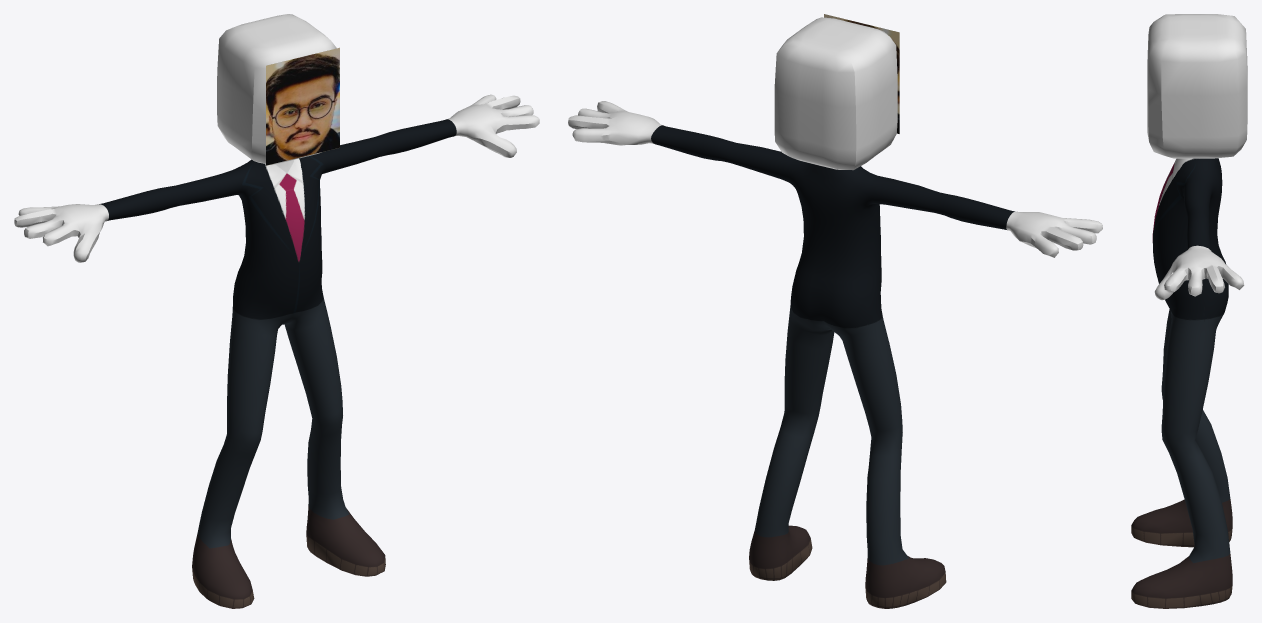
File: Mr_Cube_Faceless.fbx
The picture shows the model from 3 angles, left to right: view 1: azimuth 30°, elevation 25°; view 2: azimuth 150°, elevation 25°; view 3: azimuth 270°, elevation 25°; orthographic projection.
Visible parts, largest first — view 1: Hamdan; view 2: Hamdan; view 3: Hamdan.
Boxes of the visible parts, x1,y1,x2,y2 form: Hamdan: [14, 14, 539, 608]; Hamdan: [568, 14, 1102, 608]; Hamdan: [1131, 14, 1247, 608].
Size of the model in its own units: 138 by 140 by 27.22.
2 materials, 2 textured.
